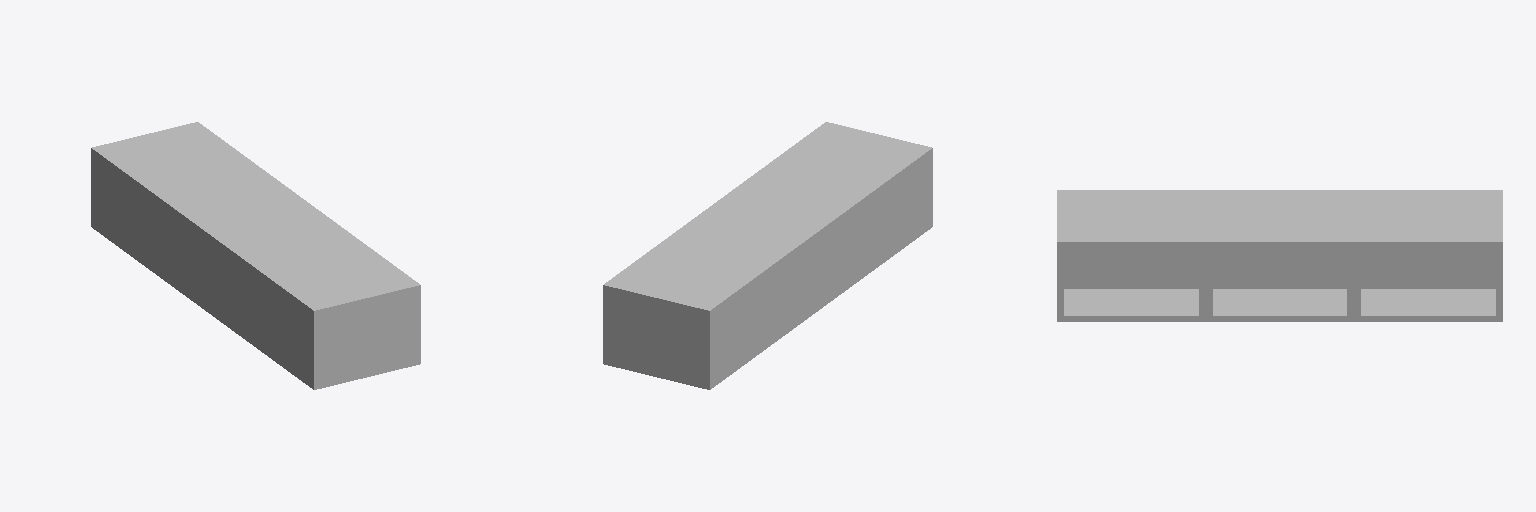
File: cupboard.5.obj
3 renders of one model, left to right at view 1: azimuth 30°, elevation 25°; view 2: azimuth 150°, elevation 25°; view 3: azimuth 270°, elevation 25°, orthographic.
Visible parts, largest first — view 1: Cube.033; view 2: Cube.033; view 3: Cube.033.
Boxes of the visible parts, x1,y1,x2,y2 form: Cube.033: [91, 122, 420, 389]; Cube.033: [603, 122, 932, 389]; Cube.033: [1057, 190, 1502, 321].
Size of the model in its own units: 3.56 by 2.52 by 12.86.